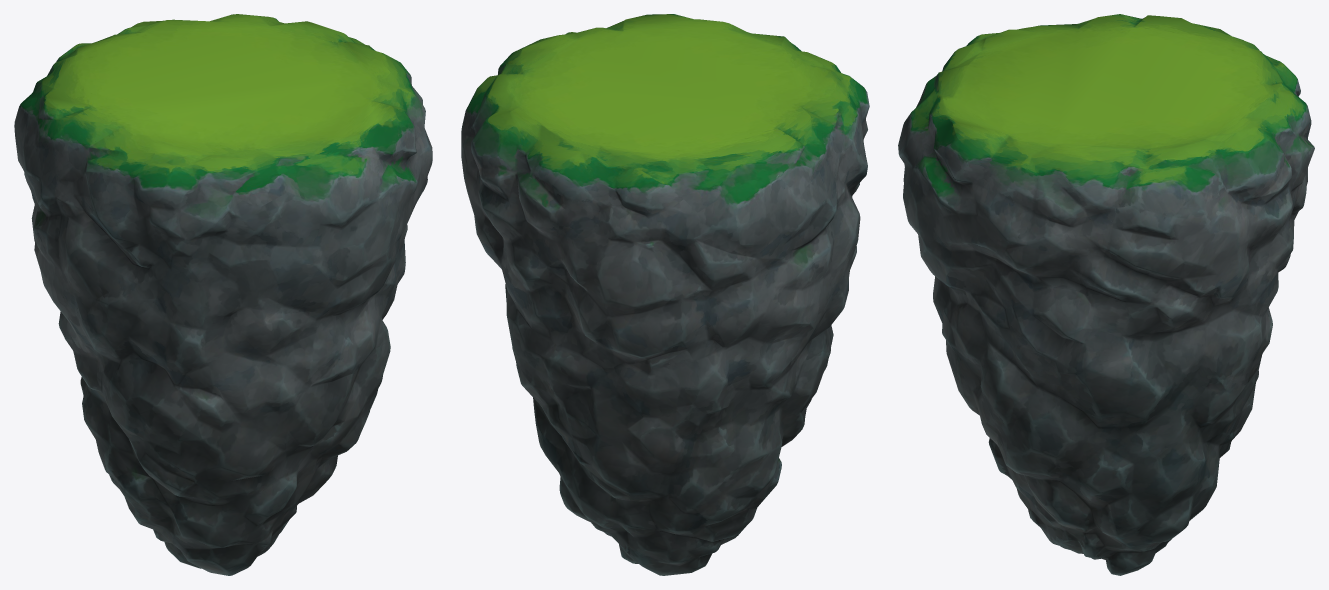
The model's file is rocks1.fbx.
3 views of the same model, side by side, from view 1: azimuth 30°, elevation 25°; view 2: azimuth 150°, elevation 25°; view 3: azimuth 270°, elevation 25° (orthographic).
Parts seen in each view (by area): view 1: Rock_1_002; view 2: Rock_1_002; view 3: Rock_1_002.
Part boxes in pixels (<box>): Rock_1_002: <box>14,14,432,575</box>; Rock_1_002: <box>461,14,869,575</box>; Rock_1_002: <box>898,14,1314,575</box>.
Size of the model in its own units: 356 by 466 by 365.
Materials: 1 (1 with a texture image).
